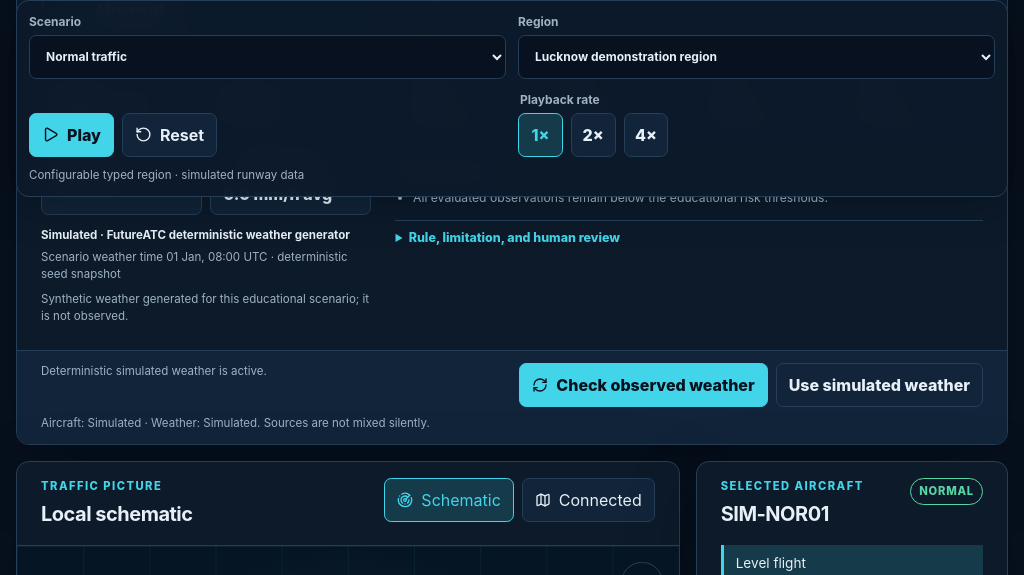
Test: weather provider integration › loads validated observed weather, attribution, and recomputed runway wind
(page scrolled)
Click the button "Check observed weather" at (644, 385), box [519,363,768,407]
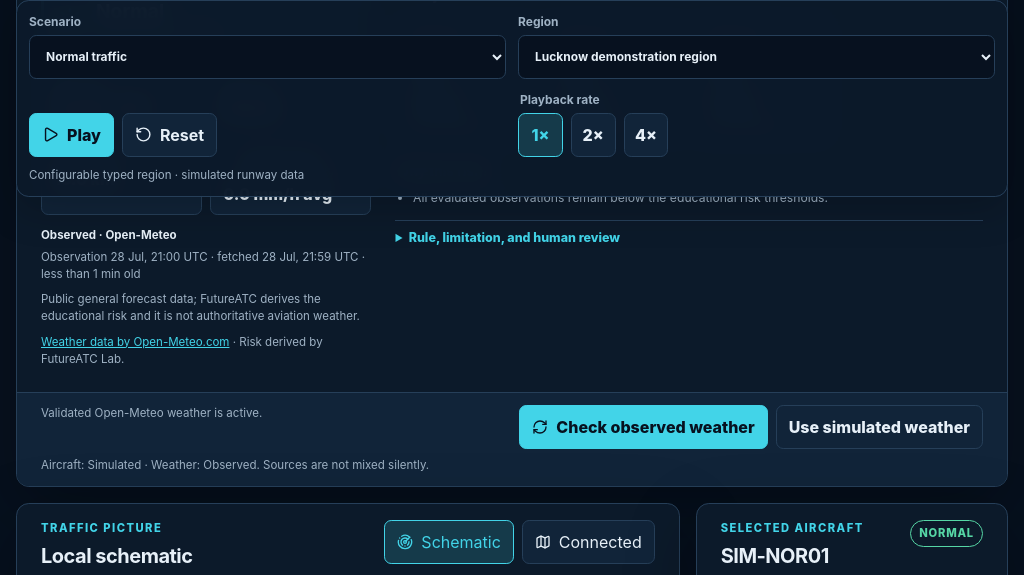
Now the text "Observed · Open-Meteo" is shown, box [41,228,177,242]
Now the link "Weather data by Open-Meteo.com" is shown, box [41,335,230,349]
Now the text "min old" is shown, box [41,267,141,281]
